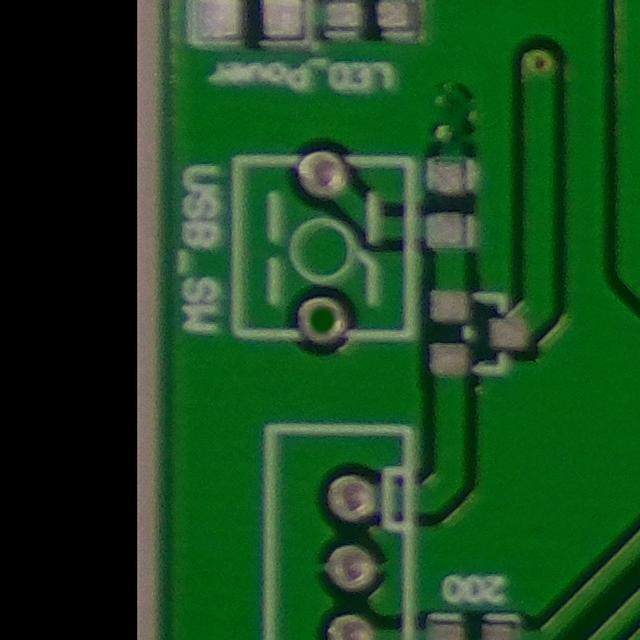missing_hole: (282, 286, 357, 355)
